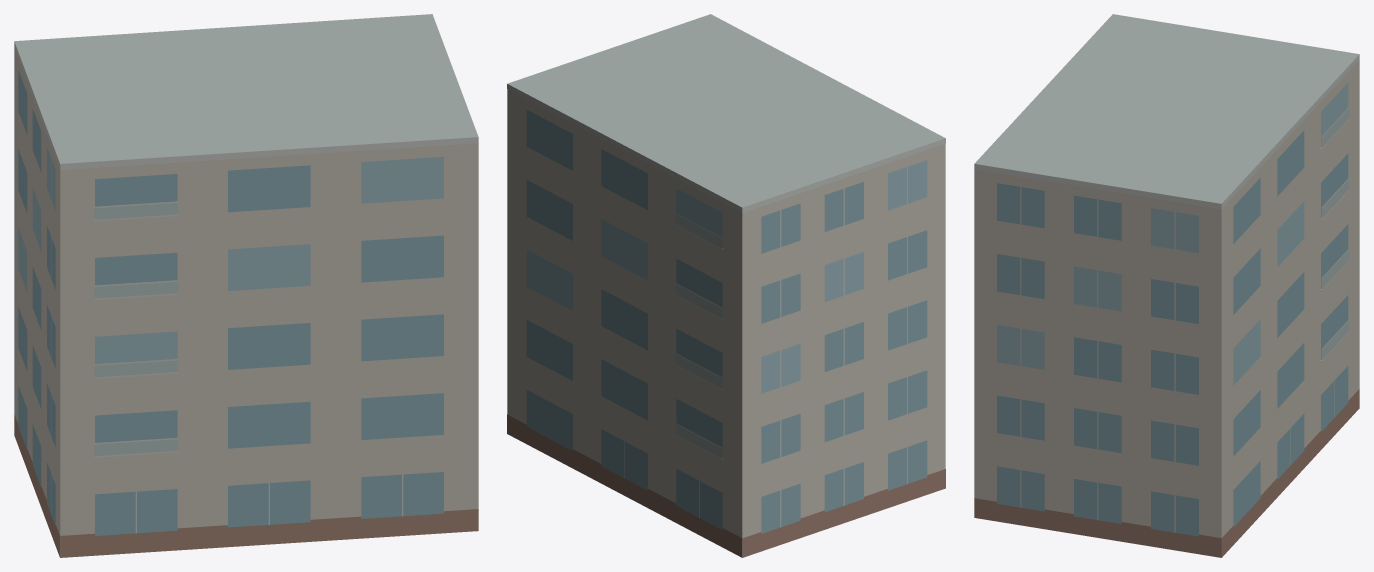
Rendered from survey-upis-32679171.glb.
3 renders of one model, left to right at view 1: azimuth 30°, elevation 25°; view 2: azimuth 150°, elevation 25°; view 3: azimuth 270°, elevation 25°, orthographic. The views are drawn at different scales.
Visible parts, largest first — view 1: survey-upis-32679171.tmp; view 2: survey-upis-32679171.tmp; view 3: survey-upis-32679171.tmp.
Part boxes in pixels (left/top/right/bottom): survey-upis-32679171.tmp: left=14, top=14, right=478, bottom=557; survey-upis-32679171.tmp: left=507, top=14, right=945, bottom=557; survey-upis-32679171.tmp: left=974, top=14, right=1359, bottom=557.
Size of the model in its own units: 18.29 by 15.9 by 15.69.
